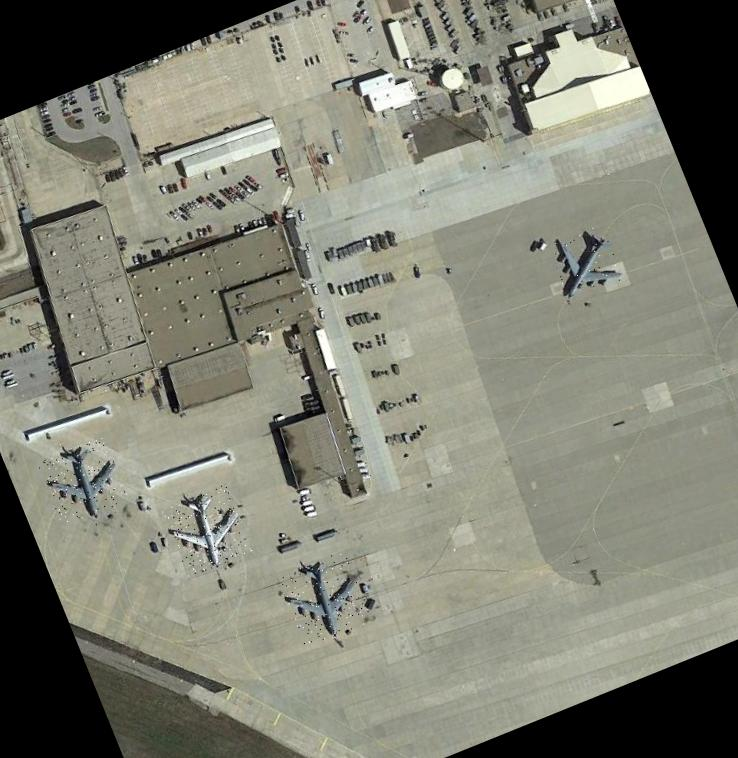A11: (162, 483, 253, 577)
A14: (278, 550, 374, 648), (37, 436, 130, 526), (544, 222, 626, 302)
